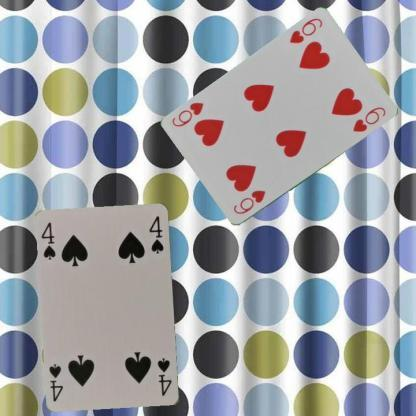4s: (38, 220, 58, 261), (154, 355, 173, 398)
6h: (286, 16, 324, 46), (231, 187, 266, 216)
